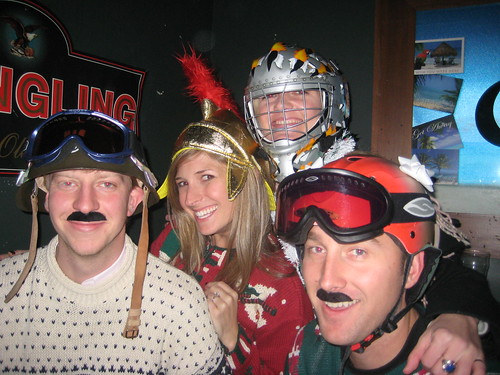helmet: (286, 156, 456, 242), (243, 40, 348, 89)
